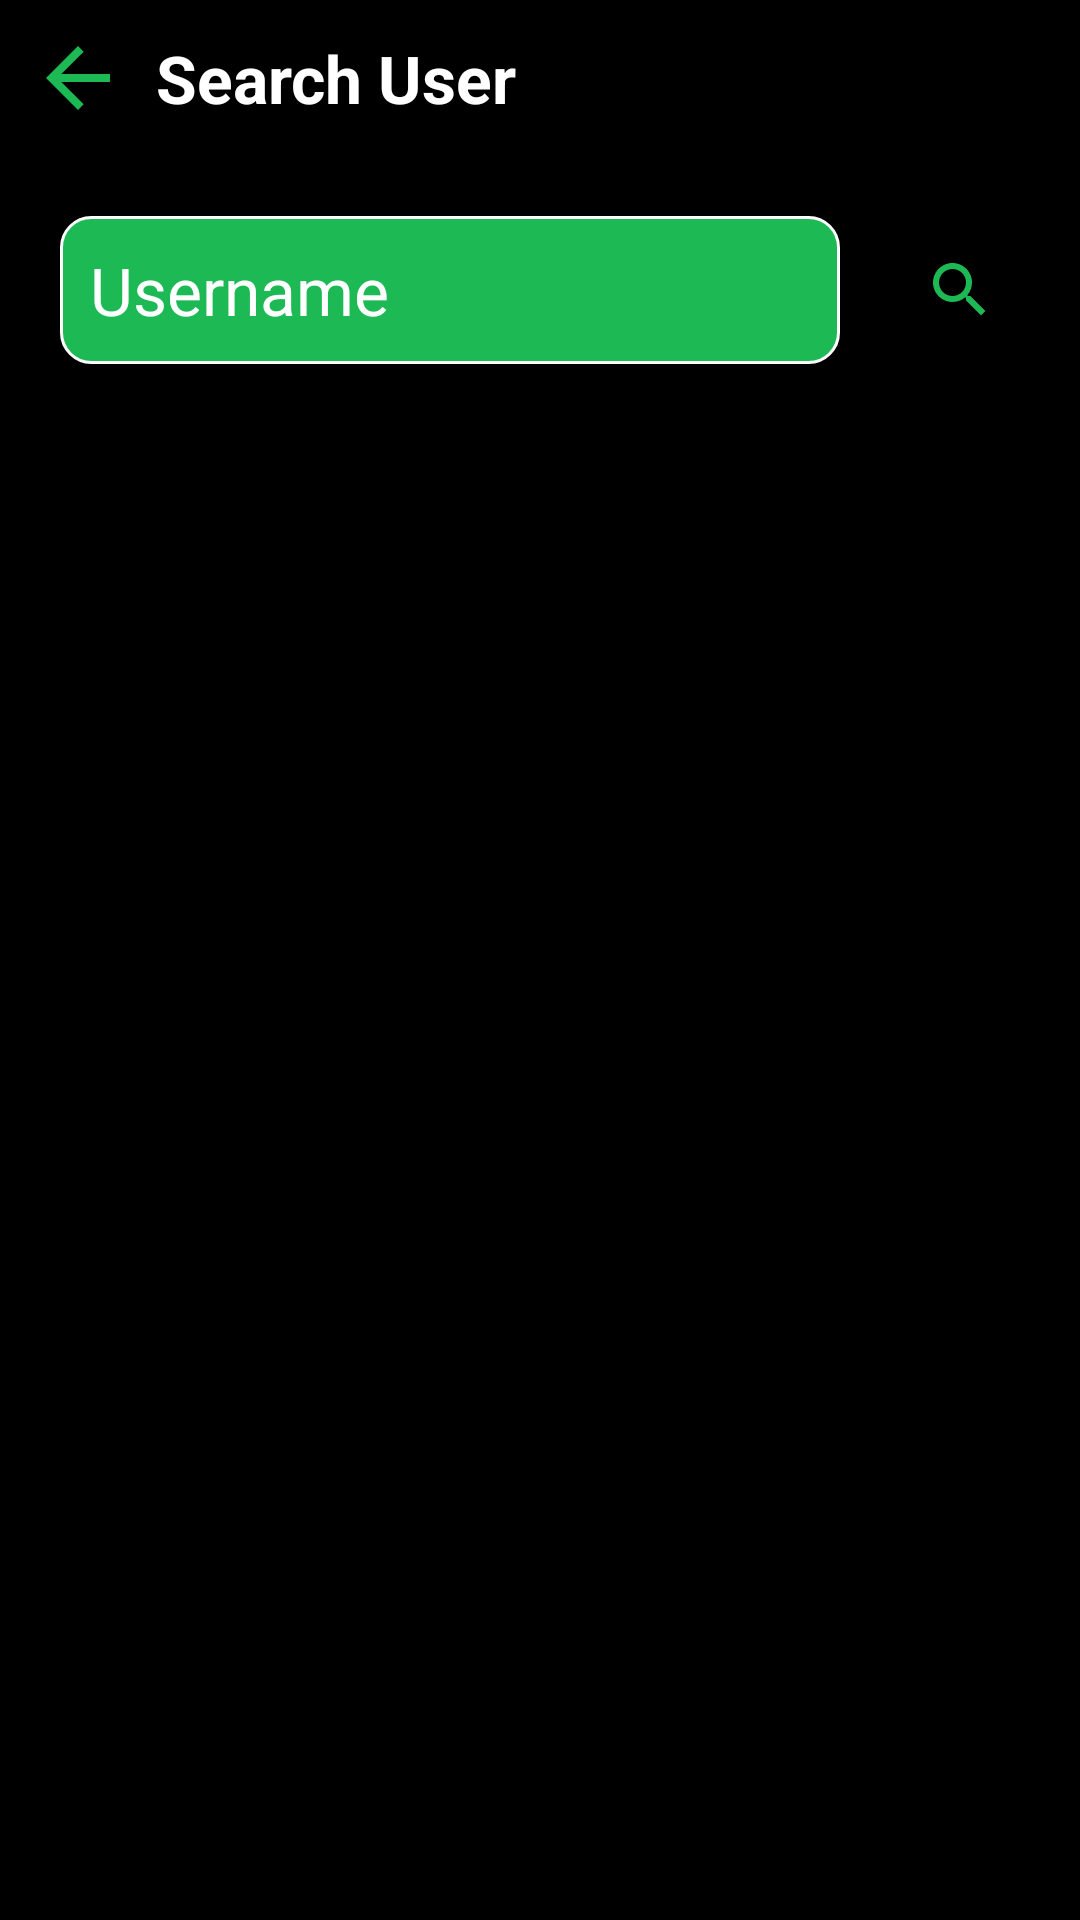

Where icons sit on this 1080 x 1920 app screen, as BBox(x1, y1, x2, y2):
arrow back: BBox(46, 46, 110, 110)
search: BBox(933, 263, 985, 315)
